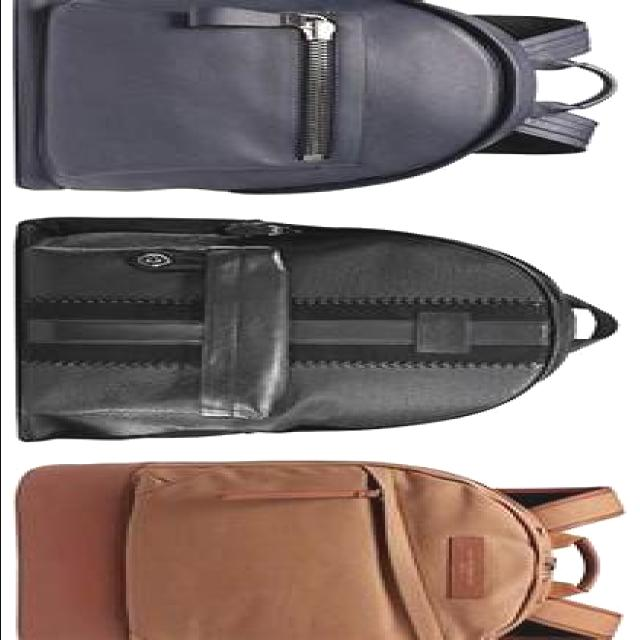backpack: (16, 216, 621, 443), (16, 1, 621, 194), (16, 461, 630, 640)
